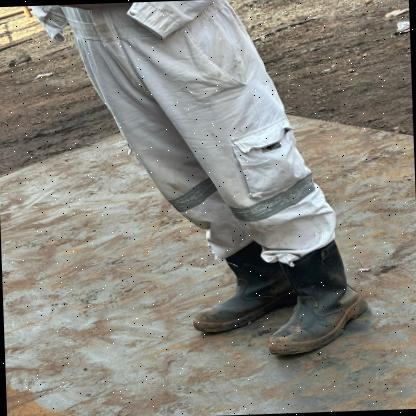bota: (256, 236, 378, 356), (183, 239, 304, 336)
